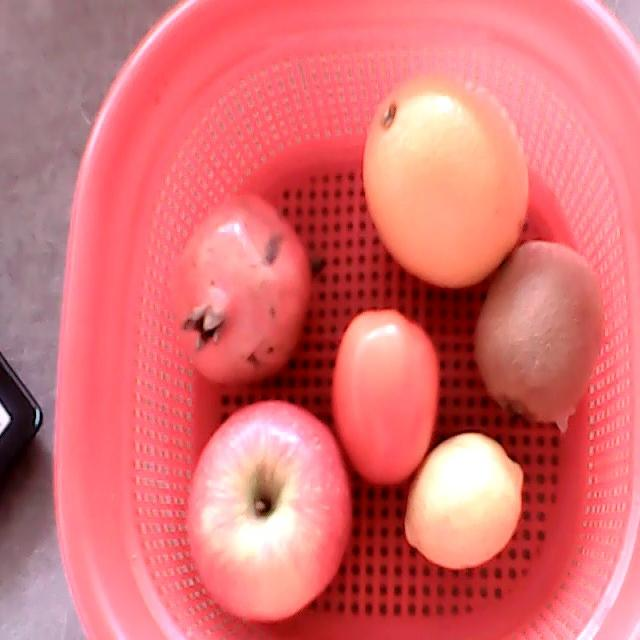apple: (187, 399, 353, 621)
kiwi: (473, 240, 603, 421)
lemon: (405, 433, 522, 569)
orange: (362, 73, 529, 287)
pomegranate: (167, 191, 312, 385)
tomato: (331, 306, 439, 487)
